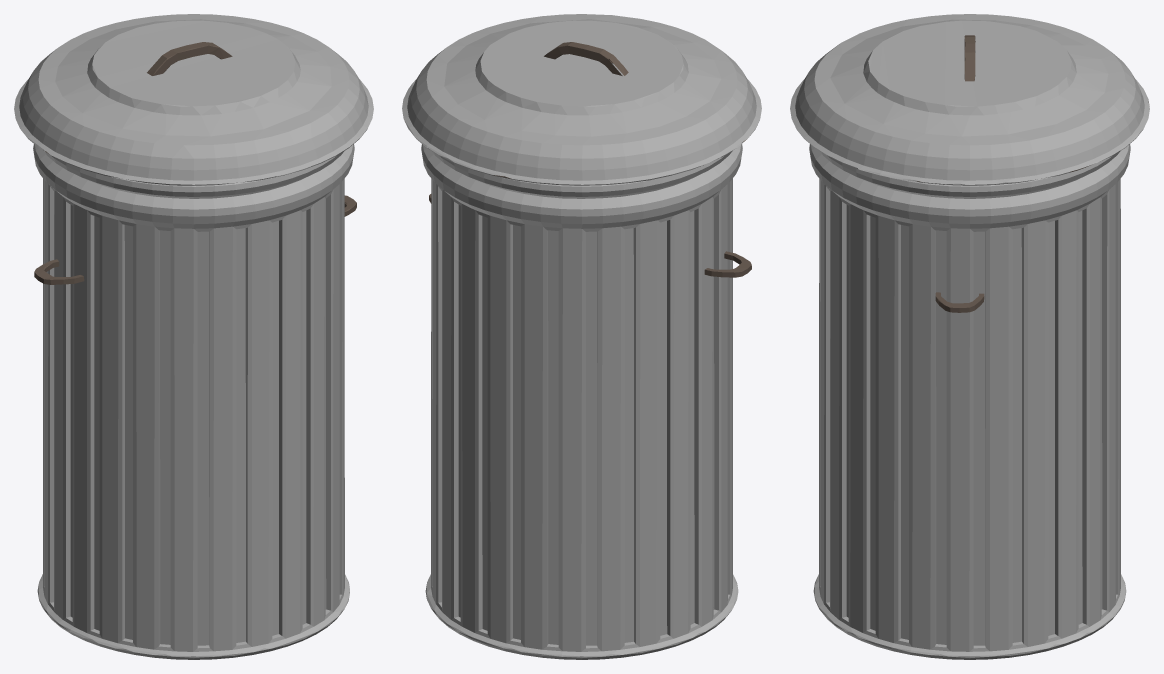
The model's file is Lixeira.fbx.
3 renders of one model, left to right at view 1: azimuth 30°, elevation 25°; view 2: azimuth 150°, elevation 25°; view 3: azimuth 270°, elevation 25°, orthographic.
Parts seen in each view (by area): view 1: Lixeira; view 2: Lixeira; view 3: Lixeira.
Part boxes in pixels (x1=…): Lixeira: x1=14, y1=14, x2=373, y2=659; Lixeira: x1=402, y1=14, x2=761, y2=659; Lixeira: x1=790, y1=14, x2=1149, y2=659.
Size of the model in its own units: 292 by 484 by 288.
